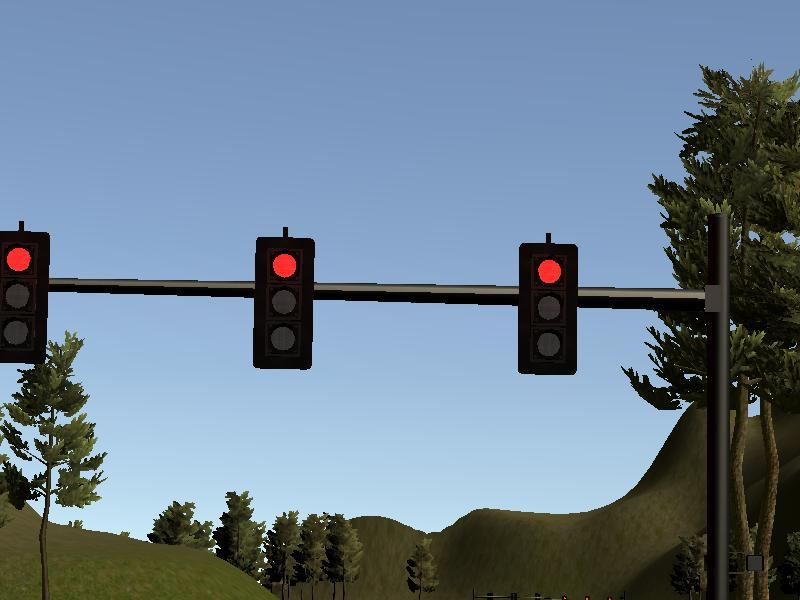Red: (253, 236, 313, 368), (518, 243, 578, 375), (1, 230, 50, 364)
